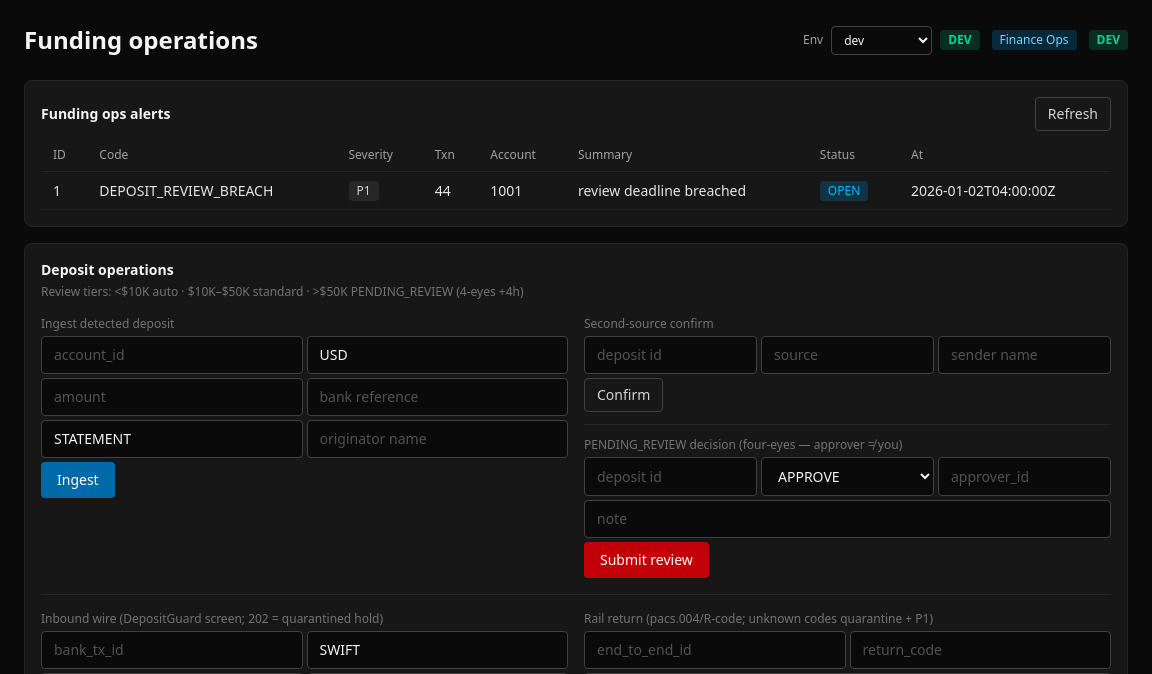
FundingOpsPage › ingests a detected deposit and renders the review tier
This screenshot has width=1152, height=674.
Type "1001" into the field named "Account id" at (172, 355), box [41, 336, 302, 374]
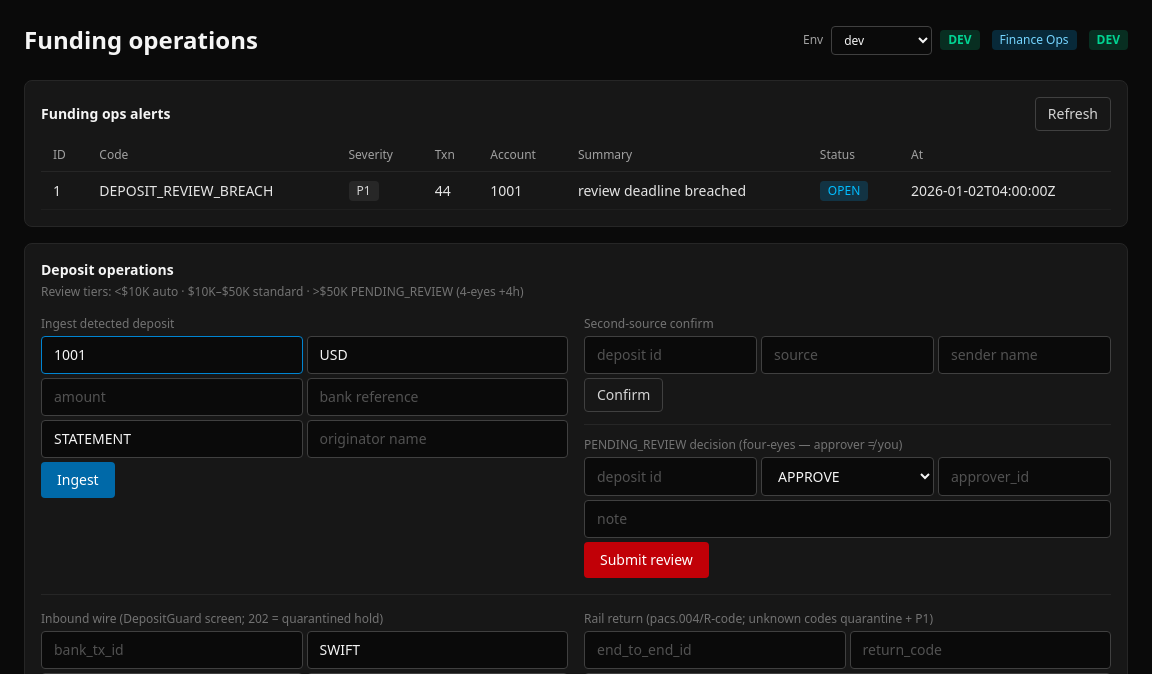
Type "60000" into the field labelled "amount" below "Ingest detected deposit" at (172, 397), box [41, 378, 302, 416]
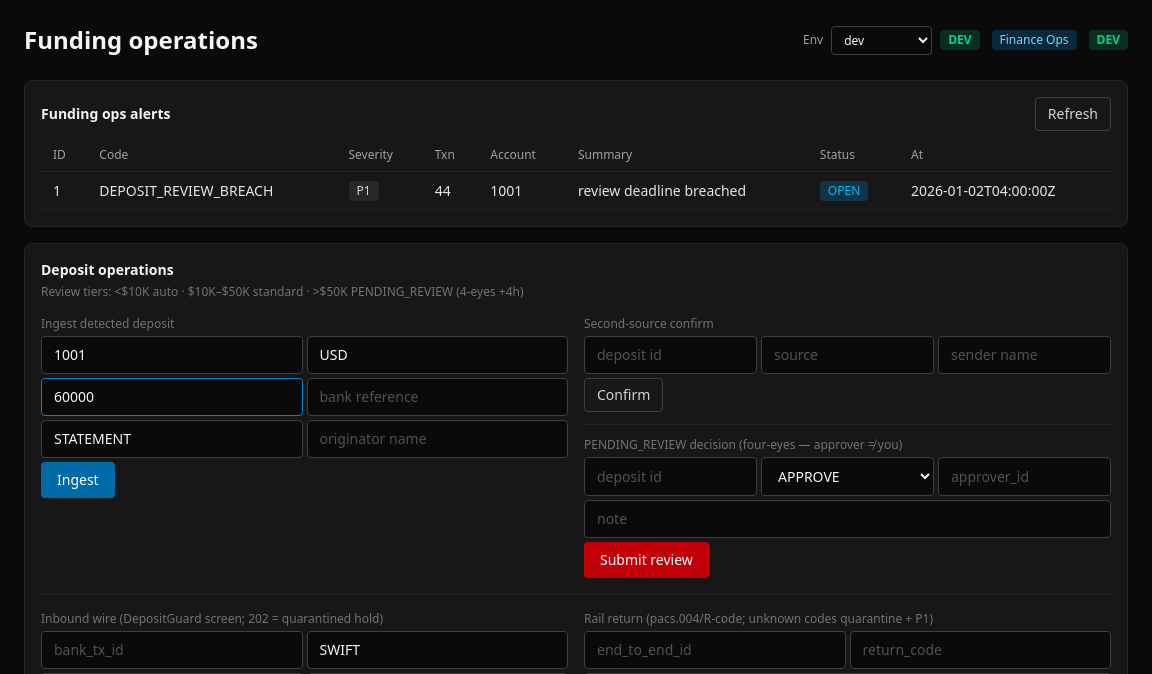
Type "WIRE-1" into the field labelled "reference" at (437, 397), box [306, 378, 568, 416]
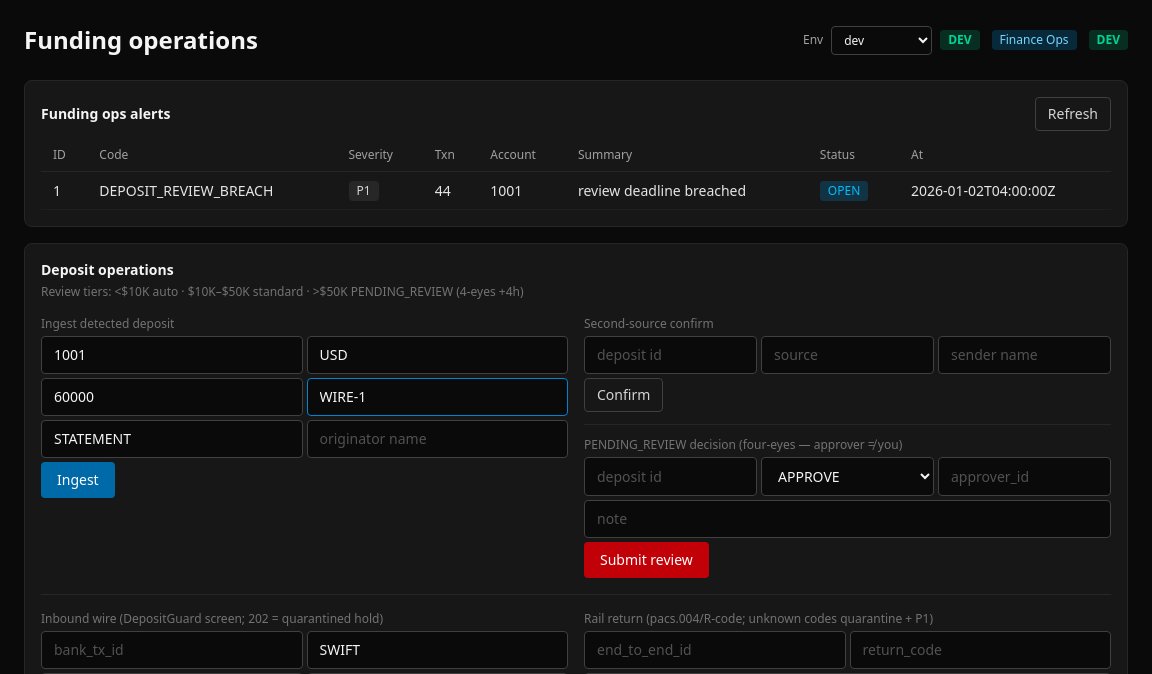
Click the button "Ingest" at (78, 480), box [41, 462, 115, 498]
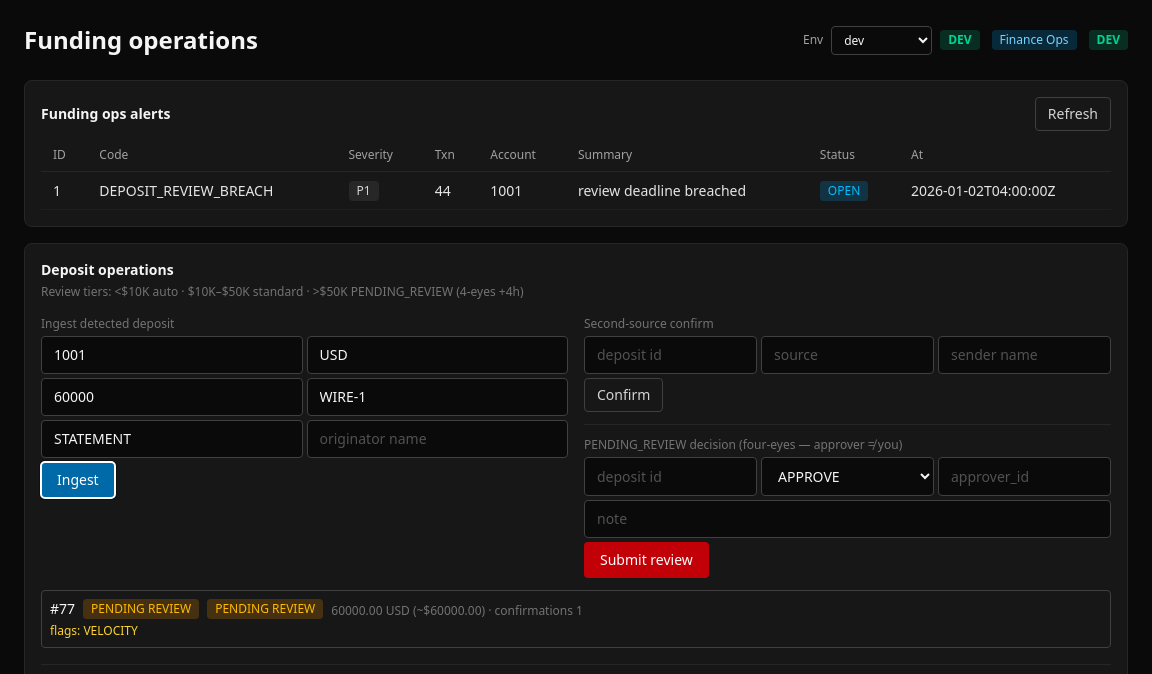
Now the text "#77" is shown, box [50, 599, 75, 619]
Now the text "flags: VELOCITY" is shown, box [50, 622, 138, 639]
